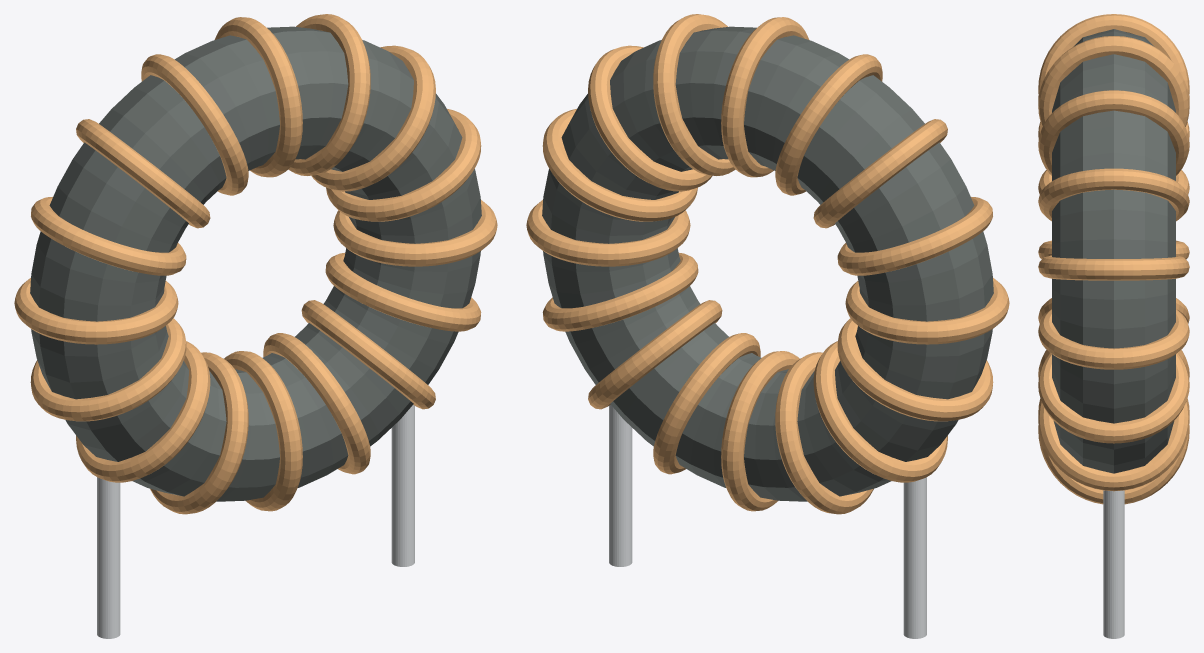
File: inductor_toroid.glb
3 views of the same model, side by side, from view 1: azimuth 30°, elevation 25°; view 2: azimuth 150°, elevation 25°; view 3: azimuth 270°, elevation 25° (orthographic). The views are drawn at different scales.
Visible parts, largest first — view 1: Inductor_Ferrite_Core, Torus.008, Torus.014, Torus.015, Torus.007, Torus.016, Torus.006, Torus.009, Torus.013, Torus.017, Torus.005, Torus.010 (+7 smaller); view 2: Inductor_Ferrite_Core, Torus.008, Torus.014, Torus.015, Torus.007, Torus.016, Torus.006, Torus.009, Torus.013, Torus.017, Torus.005, Torus.010 (+7 smaller); view 3: Inductor_Ferrite_Core, Torus.020, Torus.008, Torus.009, Torus.019, Torus.005, Torus.007, Torus.006, Cylinder.001, Torus.010, Torus.018, Torus.014 (+2 smaller).
Part boxes in pixels (x1,y1,x2,y2): Inductor_Ferrite_Core: (30, 26, 481, 501); Torus.008: (288, 14, 370, 175); Torus.014: (30, 318, 186, 421); Torus.015: (76, 341, 210, 482); Torus.007: (311, 45, 435, 191); Torus.016: (150, 352, 248, 514); Torus.006: (326, 109, 481, 221); Torus.009: (214, 17, 302, 177); Torus.013: (14, 278, 178, 344); Torus.017: (224, 351, 302, 511); Torus.005: (333, 200, 497, 266); Torus.010: (141, 54, 248, 195); Inductor_Ferrite_Core: (542, 26, 993, 501); Torus.008: (653, 14, 735, 175); Torus.014: (837, 318, 993, 421); Torus.015: (813, 341, 947, 482); Torus.007: (588, 45, 712, 191); Torus.016: (775, 352, 873, 514); Torus.006: (542, 109, 697, 221); Torus.009: (721, 17, 809, 177); Torus.013: (845, 278, 1009, 344); Torus.017: (721, 351, 799, 511); Torus.005: (526, 200, 690, 266); Torus.010: (775, 54, 882, 195); Inductor_Ferrite_Core: (1052, 29, 1175, 473); Torus.020: (1038, 353, 1189, 443); Torus.008: (1038, 90, 1189, 175); Torus.009: (1038, 36, 1189, 126); Torus.019: (1038, 400, 1189, 491); Torus.005: (1038, 309, 1189, 369); Torus.007: (1038, 168, 1189, 221); Torus.006: (1038, 255, 1189, 280); Cylinder.001: (1103, 490, 1124, 638); Torus.010: (1038, 14, 1189, 96); Torus.018: (1038, 425, 1189, 504); Torus.014: (1038, 240, 1189, 259).
Bounding box in the file's own units: 0.0159 × 0.019 × 0.0049.
